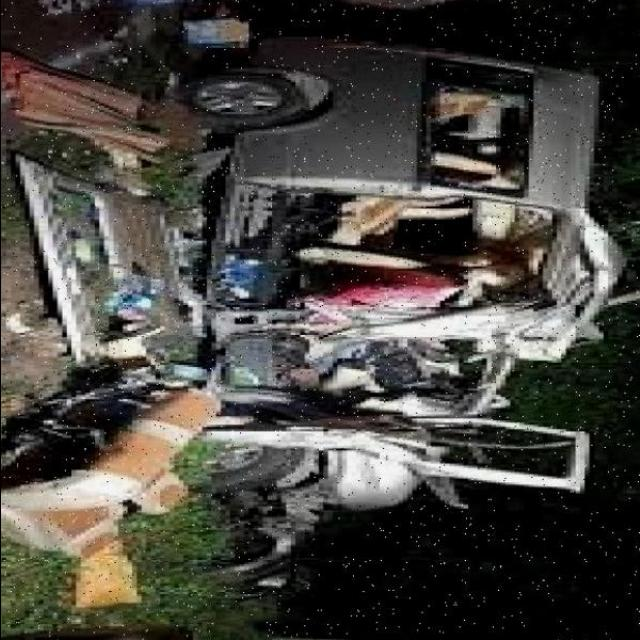accident: (147, 90, 625, 548)
